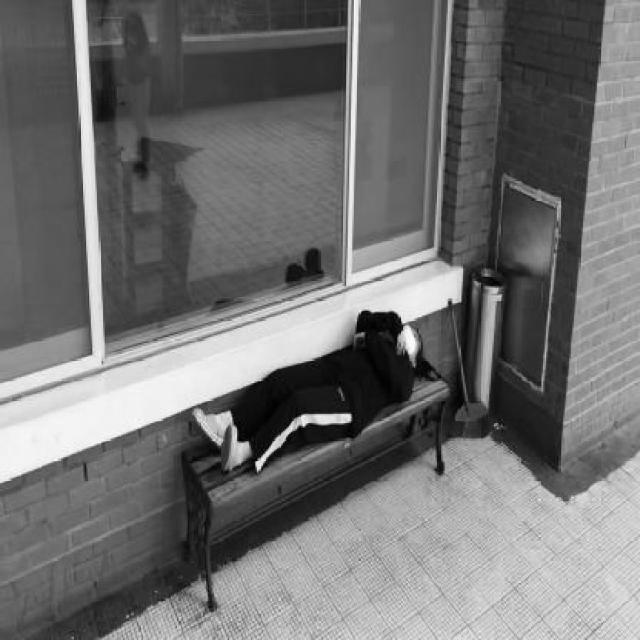person: (193, 305, 427, 473)
